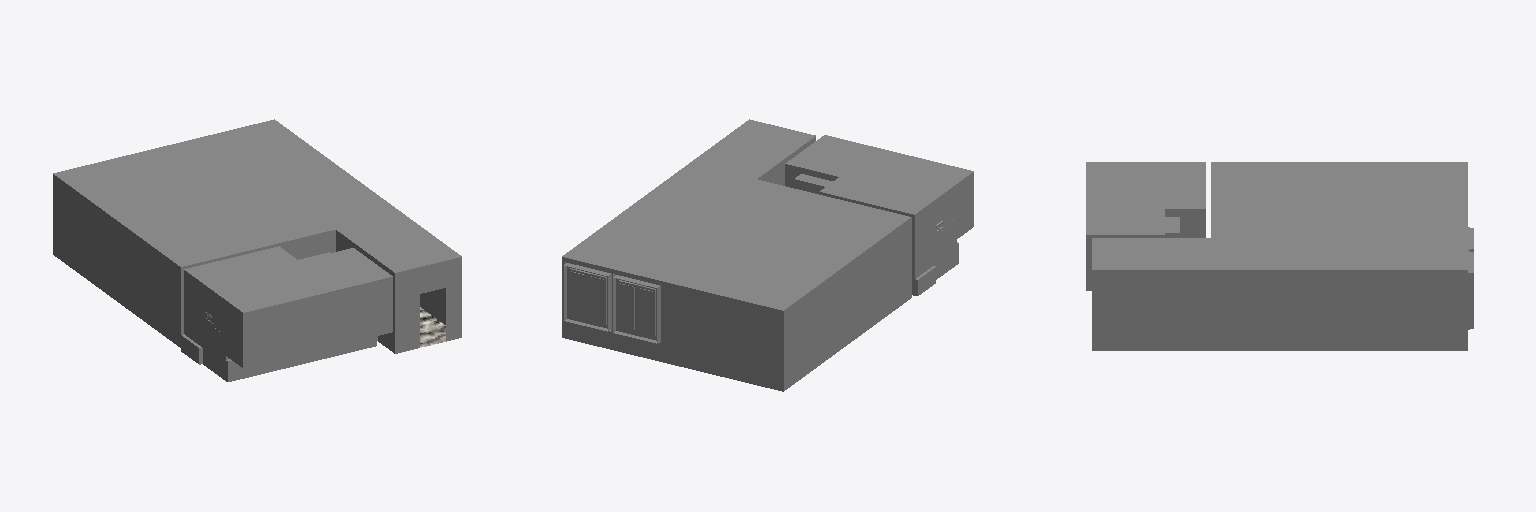
3 renders of one model, left to right at view 1: azimuth 30°, elevation 25°; view 2: azimuth 150°, elevation 25°; view 3: azimuth 270°, elevation 25°, orthographic.
Visible parts, largest first — view 1: Room_301; view 2: Room_301, Plane; view 3: Room_301.
Part boxes in pixels (left/top/right/bottom): Room_301: left=53, top=119, right=461, bottom=381; Room_301: left=562, top=119, right=973, bottom=391; Plane: left=564, top=262, right=660, bottom=342; Room_301: left=1086, top=162, right=1473, bottom=350.
Bounding box in the file's own units: 10.3 × 3.54 × 15.35.
Materials: 7 (1 with a texture image).